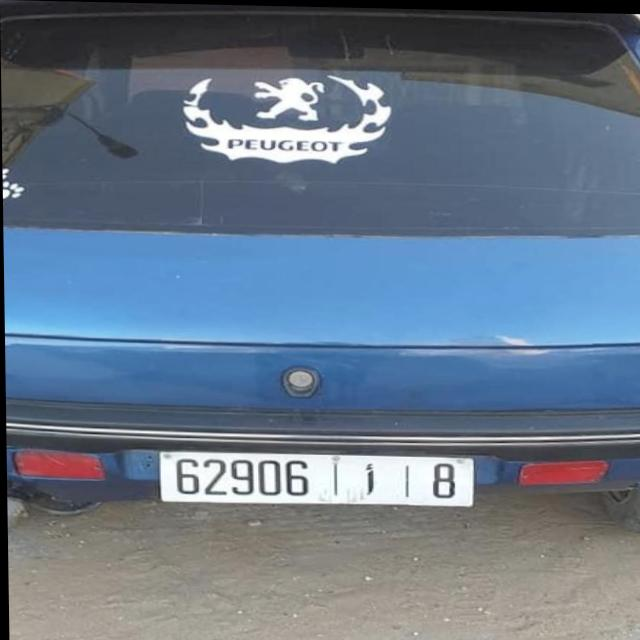License-Plate: (157, 451, 473, 504)
